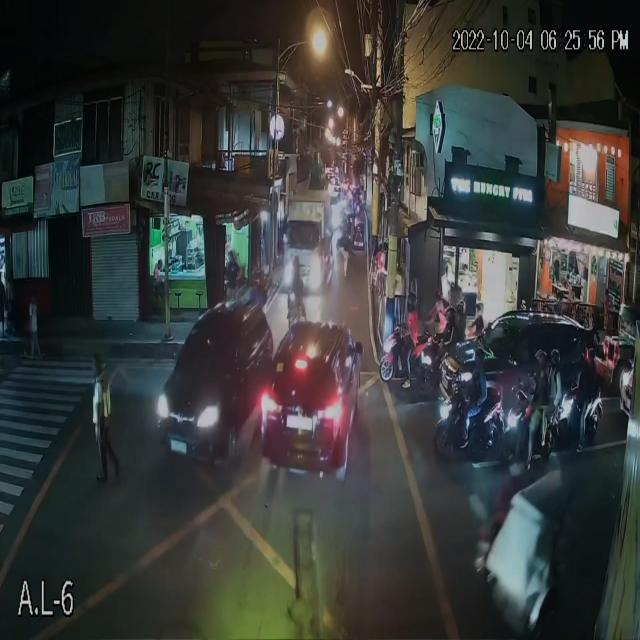Full-Faced: (548, 344, 562, 372), (406, 290, 418, 314), (474, 346, 485, 372), (456, 300, 468, 321), (444, 306, 456, 324), (474, 302, 484, 318)
Half-Faced: (530, 344, 550, 376)
